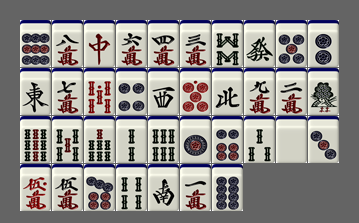0m: (20, 164, 51, 211)
0p: (180, 68, 211, 115)
0s: (84, 68, 115, 115)
1m: (180, 164, 211, 211)
1p: (180, 116, 211, 163)
1s: (308, 68, 339, 115)
1z: (20, 68, 51, 115)
2m: (276, 68, 307, 115)
2p: (308, 20, 339, 67)
2s: (116, 116, 147, 163)
2z: (148, 164, 179, 211)
3m: (180, 20, 211, 67)
3p: (308, 116, 339, 163)
3s: (244, 116, 275, 163)
3z: (148, 68, 179, 115)
4m: (148, 20, 179, 67)
4p: (116, 68, 147, 115)
4s: (116, 164, 147, 211)
4z: (212, 68, 243, 115)
5m: (52, 164, 83, 211)
5p: (276, 20, 307, 67)
5s: (52, 116, 83, 163)
5z: (276, 116, 307, 163)
6m: (116, 20, 147, 67)
6p: (212, 116, 243, 163)
6s: (148, 116, 179, 163)
6z: (244, 20, 275, 67)
7m: (52, 68, 83, 115)
7p: (84, 164, 115, 211)
7s: (84, 116, 115, 163)
7z: (84, 20, 115, 67)
8m: (52, 20, 83, 67)
8p: (212, 164, 243, 211)
8s: (212, 20, 243, 67)
9m: (244, 68, 275, 115)
9p: (20, 20, 51, 67)
9s: (20, 116, 51, 163)
